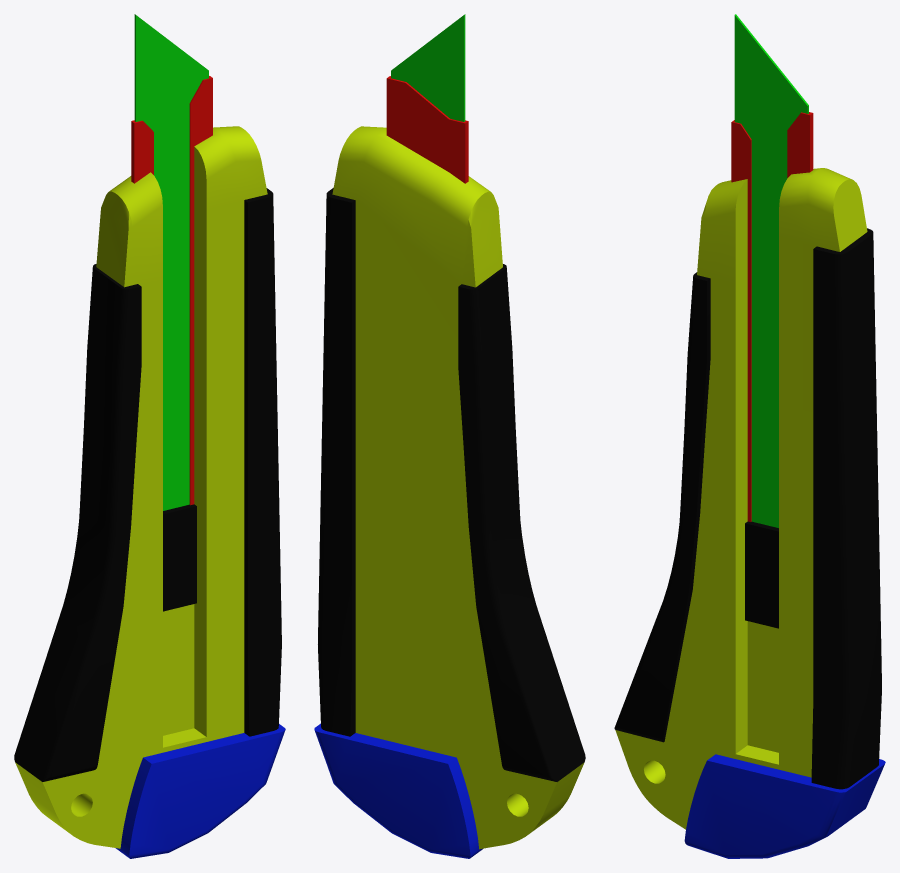
The model's file is Cutter_LP.fbx.
3 renders of one model, left to right at view 1: azimuth 30°, elevation 25°; view 2: azimuth 150°, elevation 25°; view 3: azimuth 330°, elevation 25°, orthographic.
Visible parts, largest first — view 1: Cutter_LP; view 2: Cutter_LP; view 3: Cutter_LP.
Boxes of the visible parts, left/top/right/bottom form: Cutter_LP: left=14, top=14, right=285, bottom=858; Cutter_LP: left=314, top=14, right=585, bottom=858; Cutter_LP: left=614, top=14, right=885, bottom=858.
Size of the model in its own units: 3.88 by 12.8 by 1.26.
